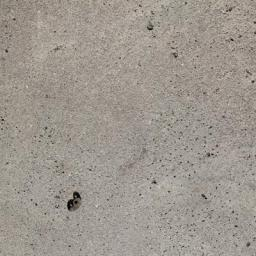FOD: (65, 190, 88, 216)
